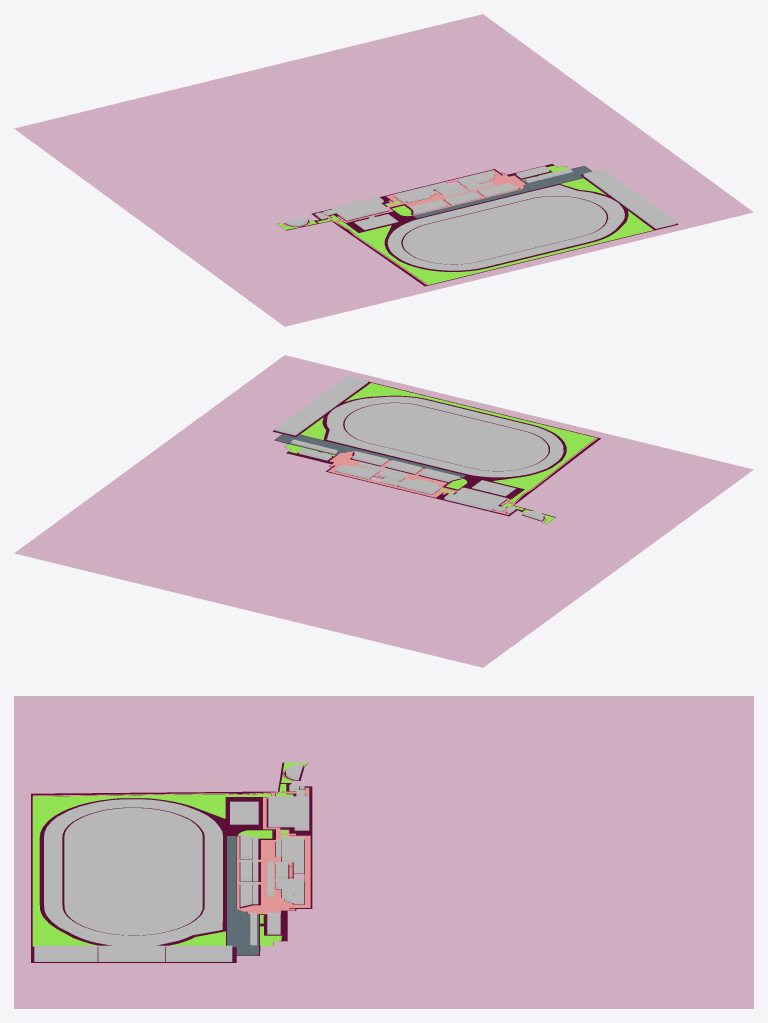
Rendered from njc-b3-v3-11-4.glb.
3 renders of one model, top to bottom at view 1: azimuth 30°, elevation 25°; view 2: azimuth 150°, elevation 25°; view 3: azimuth 270°, elevation 25°, orthographic. The views are drawn at different scales.
Parts seen in each view (by area): view 1: Grey, None, Base, Grass, Foot, Drive, ISH; view 2: Grey, None, Base, Grass, Foot, Drive, ISH; view 3: Grey, None, Base, Grass, Foot, Drive, ISH.
Part boxes in pixels (box(x1,y1,x2,y2)): Grey: box(14, 14, 753, 326); None: box(285, 166, 676, 270); Base: box(278, 164, 678, 286); Grass: box(277, 165, 653, 284); Foot: box(282, 170, 525, 285); Drive: box(413, 166, 591, 218); ISH: box(331, 196, 388, 220); Grey: box(14, 355, 753, 667); None: box(275, 375, 563, 520); Base: box(273, 381, 600, 523); Grass: box(284, 383, 596, 523); Foot: box(328, 438, 597, 522); Drive: box(275, 434, 465, 477); ISH: box(444, 487, 505, 510); Grey: box(14, 696, 753, 1008); None: box(34, 764, 304, 961); Base: box(31, 762, 312, 962); Grass: box(32, 762, 307, 946); Foot: box(33, 765, 310, 914); Drive: box(227, 836, 258, 955); ISH: box(268, 796, 309, 830).
Bounding box in the file's own units: 44.96 × 0.2 × 44.96.
